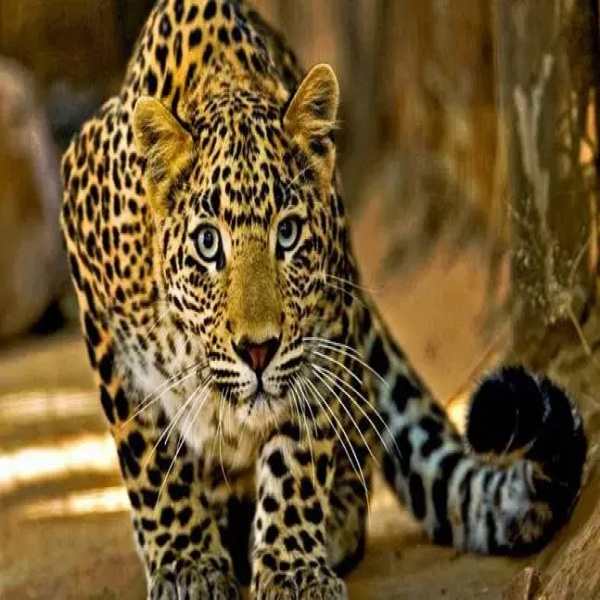Leopard: (59, 2, 587, 599)
